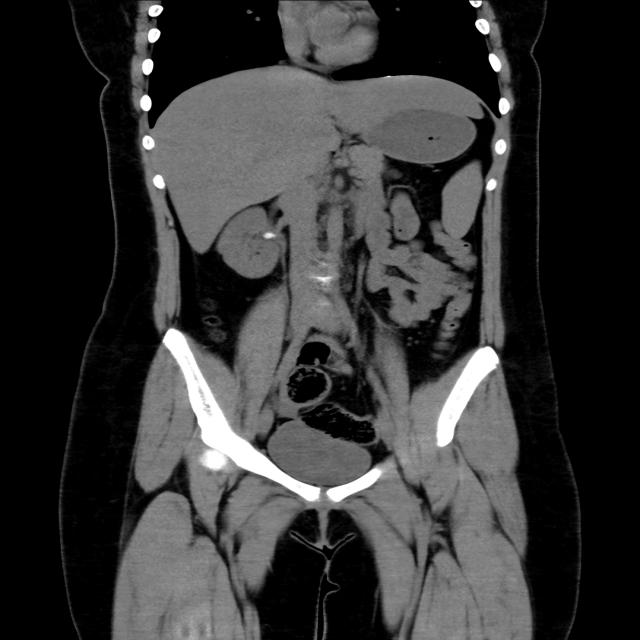kidneystone: (266, 231, 276, 239)
